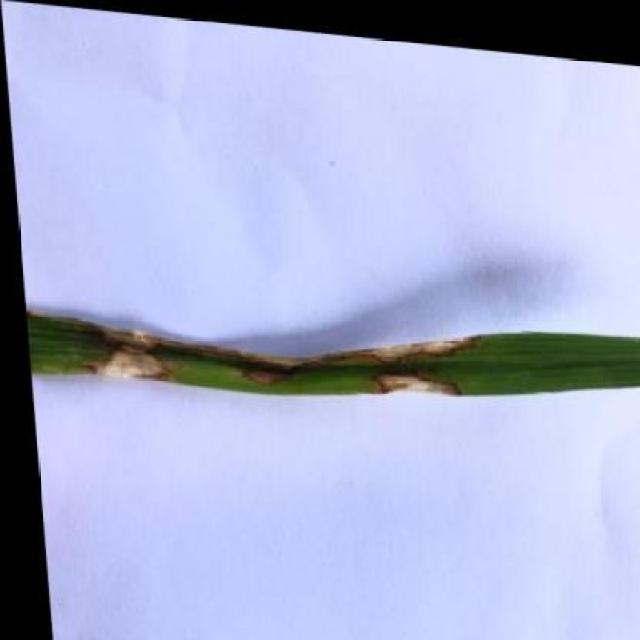Brown_Spot: (17, 269, 640, 437)
